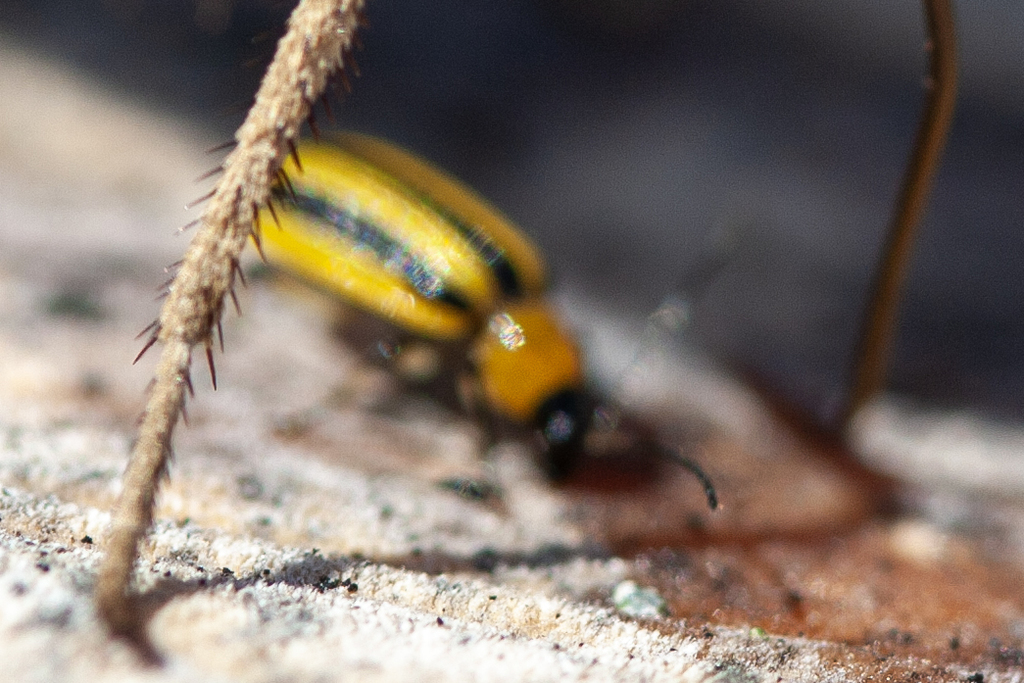potato_beetle: (45, 23, 722, 560)
